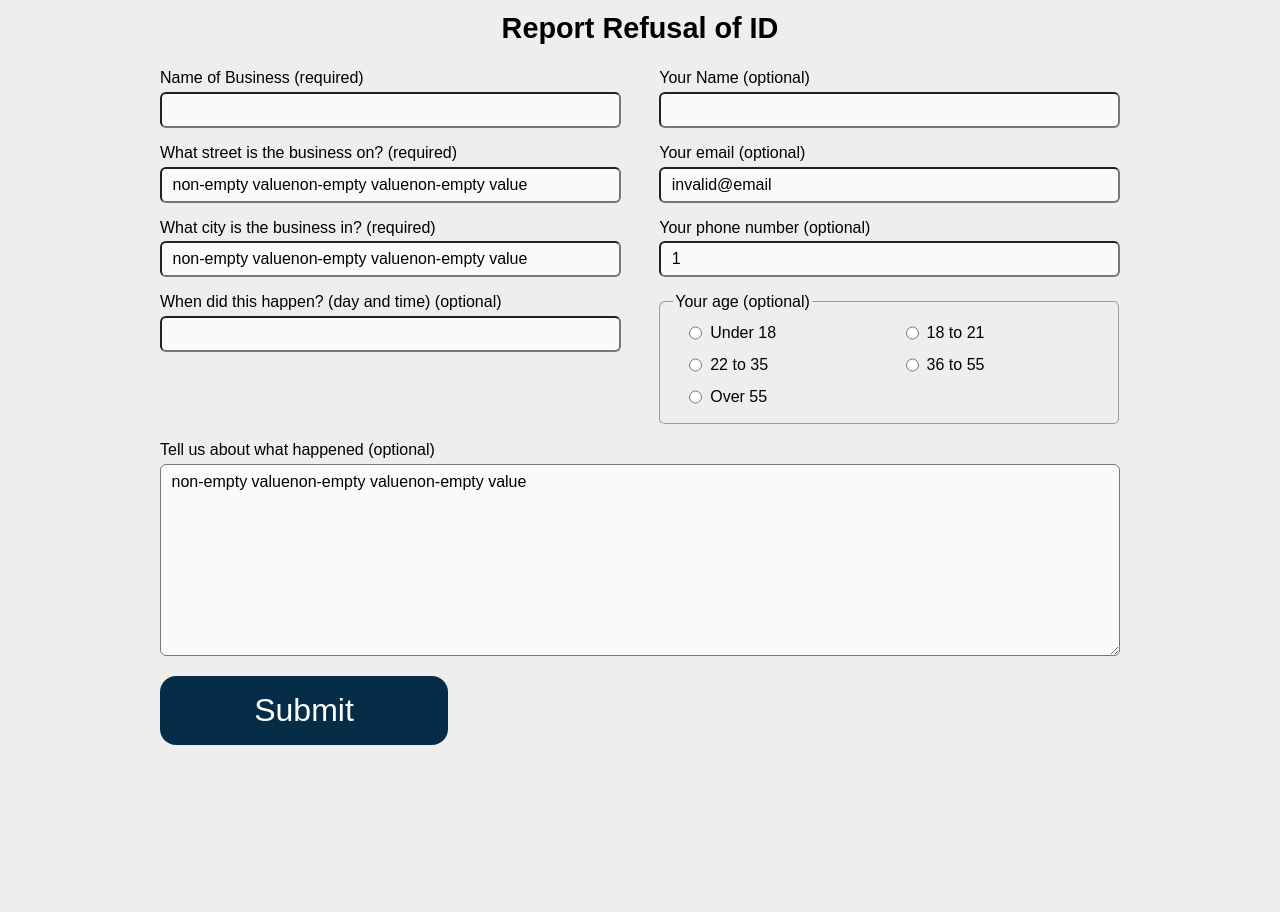
Test: when the form data is invalid › shows error message when missing required business city
This screenshot has width=1280, height=912.
Type "non-empty value" into the field labelled "Name of Business (required)".
click(390, 110); type("non-empty value")  # box [160, 92, 621, 128]
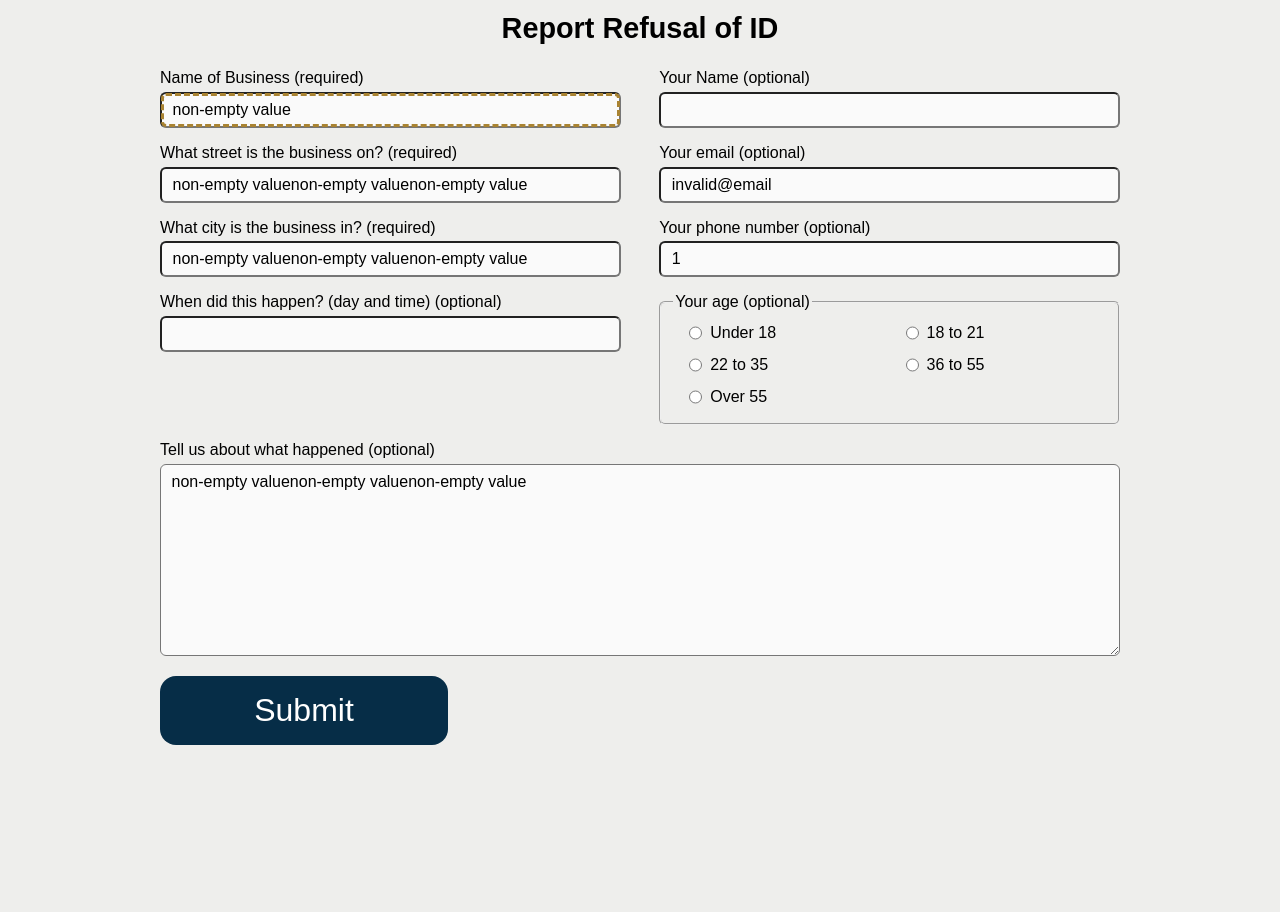
Type "non-empty value" into the field labelled "What street is the business on? (required)".
click(390, 185); type("non-empty value")  # box [160, 167, 621, 203]
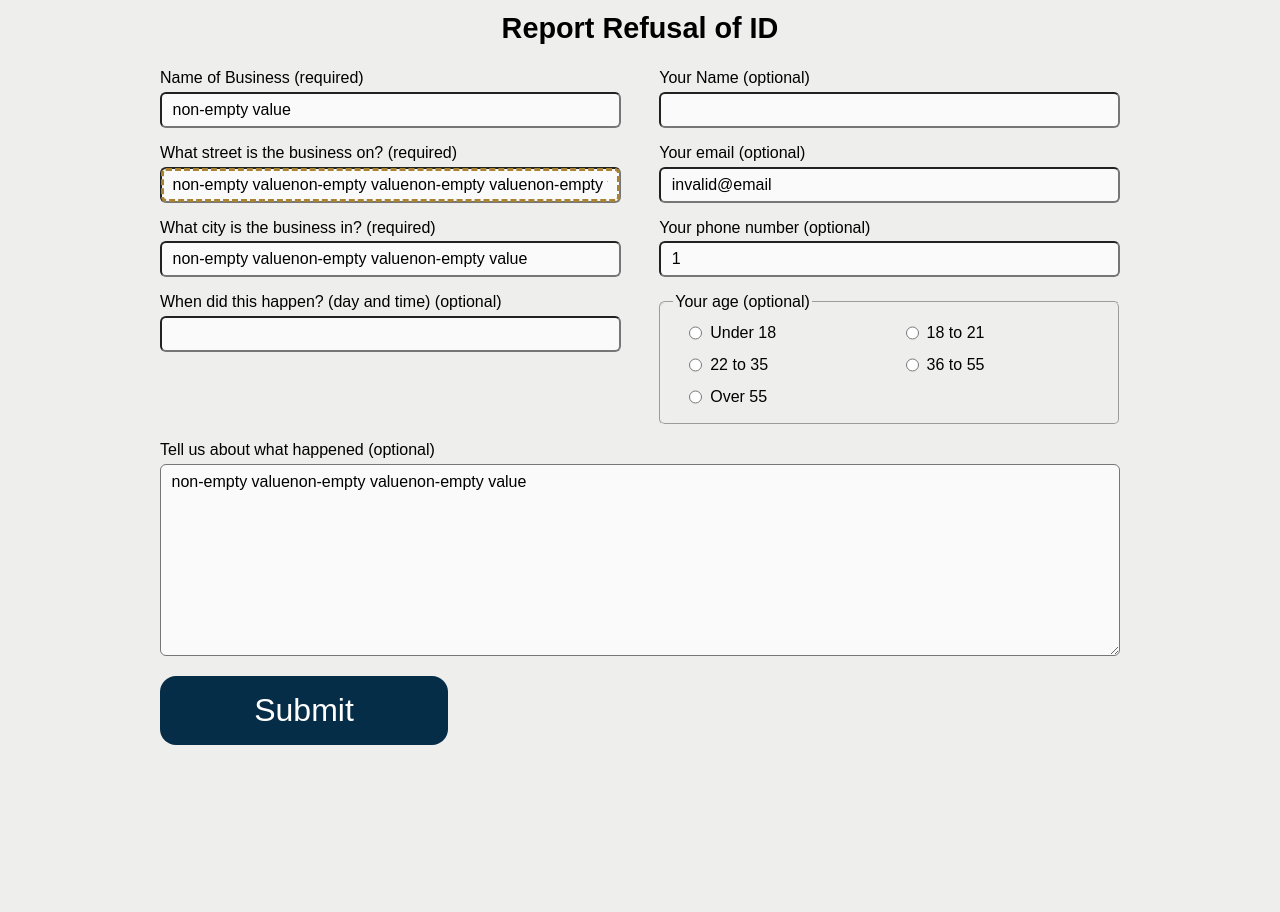
Type "non-empty value" into the field labelled "What city is the business in? (required)".
click(390, 259); type("non-empty value")  # box [160, 241, 621, 277]
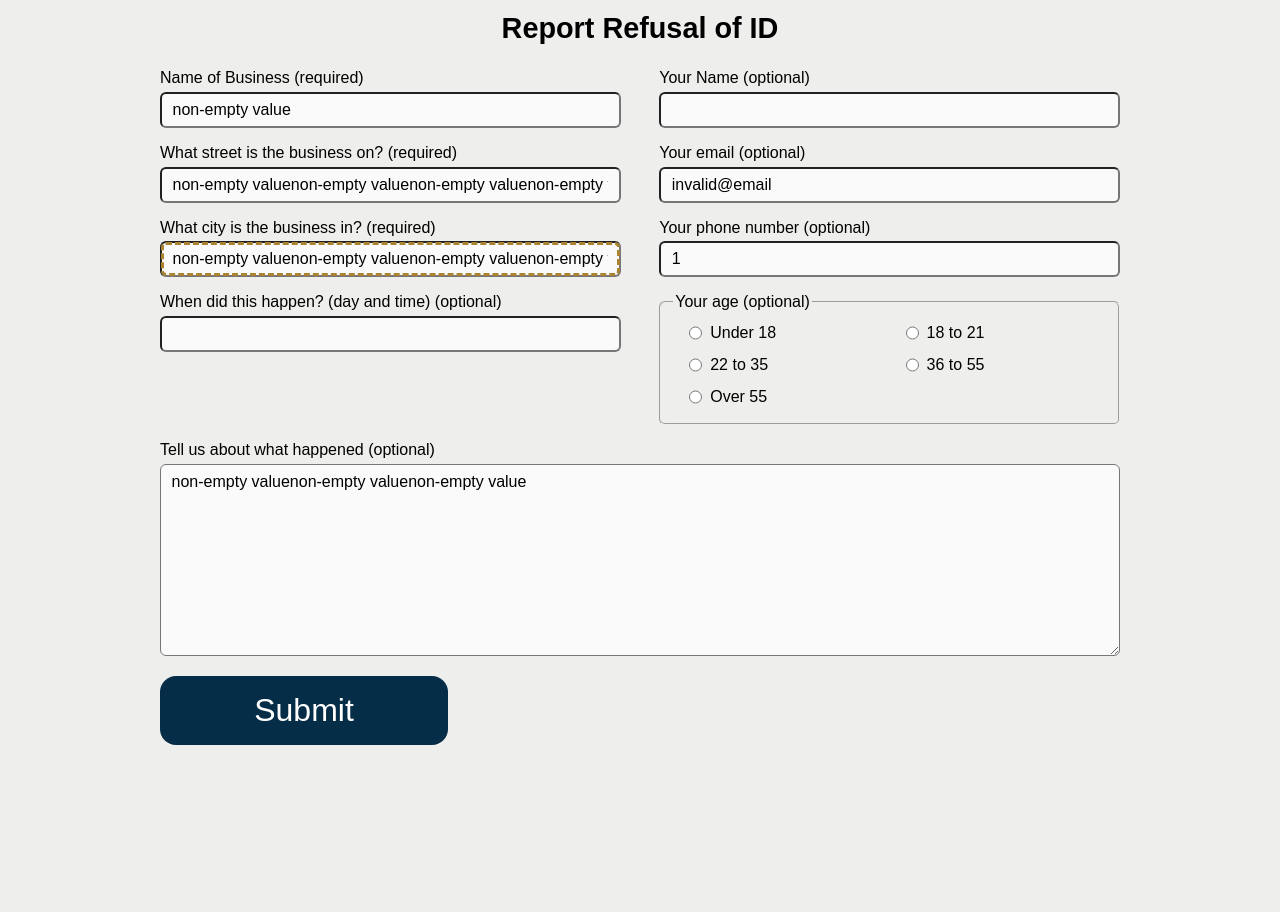
Type "non-empty value" into the text box labelled "Tell us about what happened (optional)".
click(640, 560); type("non-empty value")  # box [160, 464, 1120, 656]
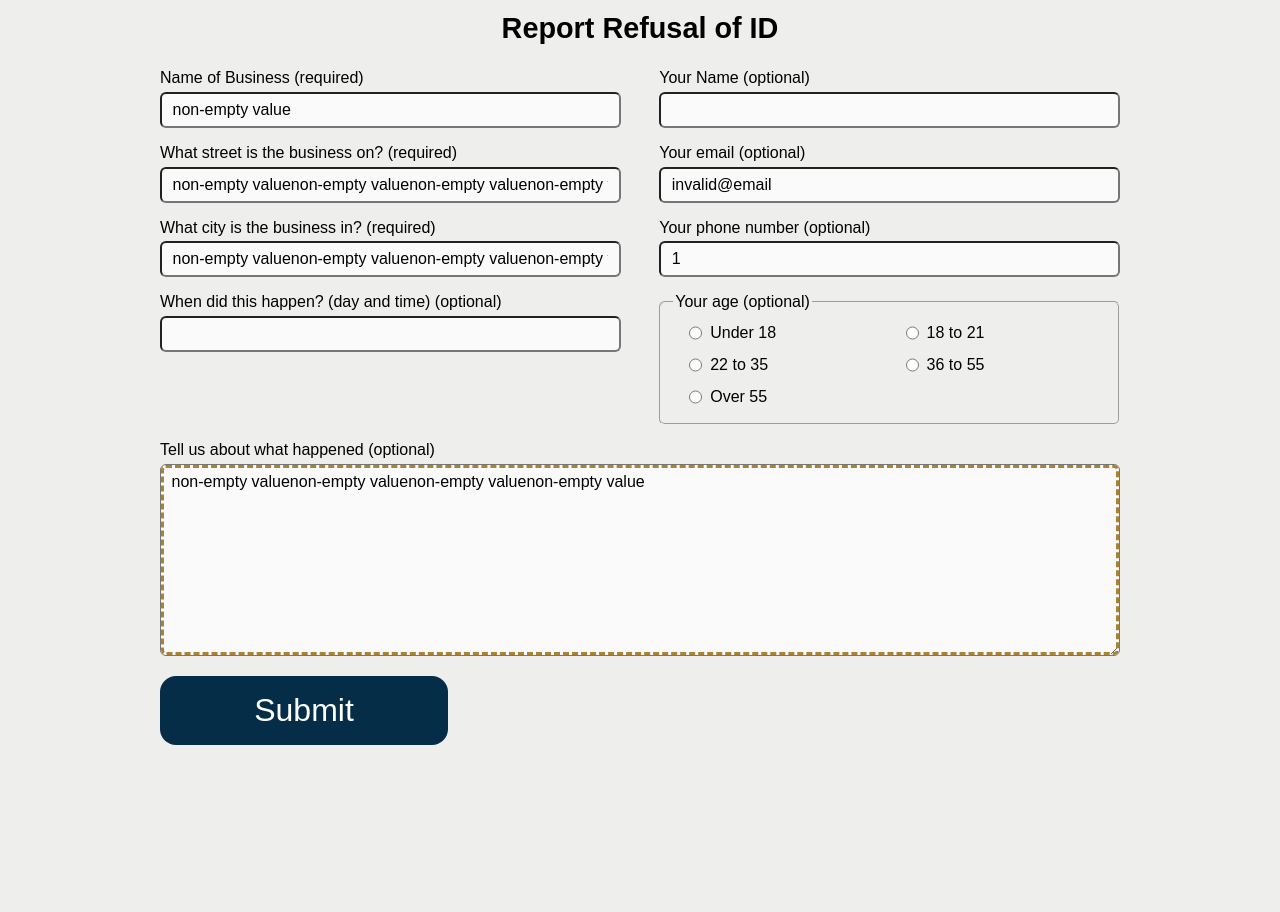
Clear the field labelled "What street is the business on? (required)" at (390, 185), box [160, 167, 621, 203]
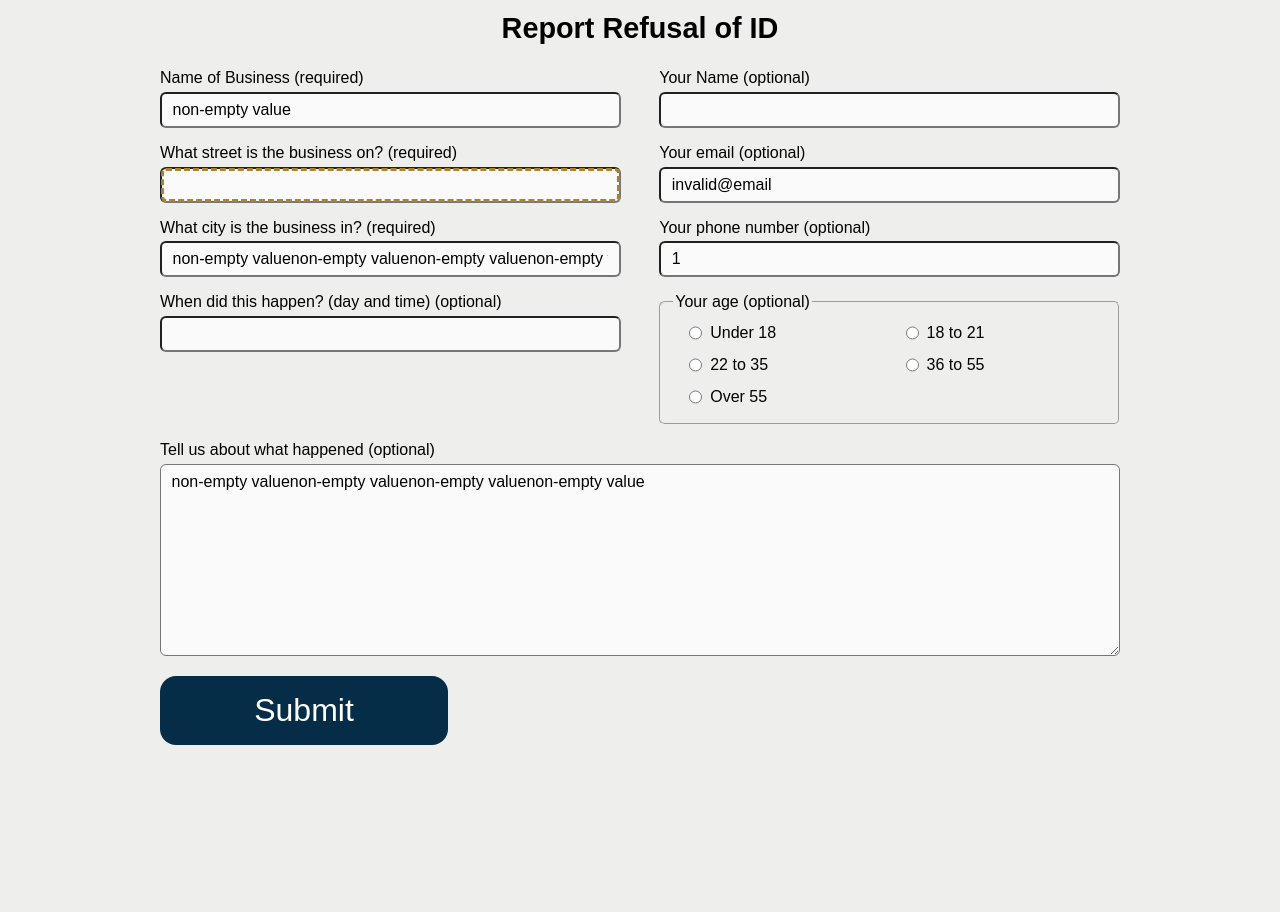
Click the button "Submit".
click(304, 710)  # box [160, 676, 448, 745]
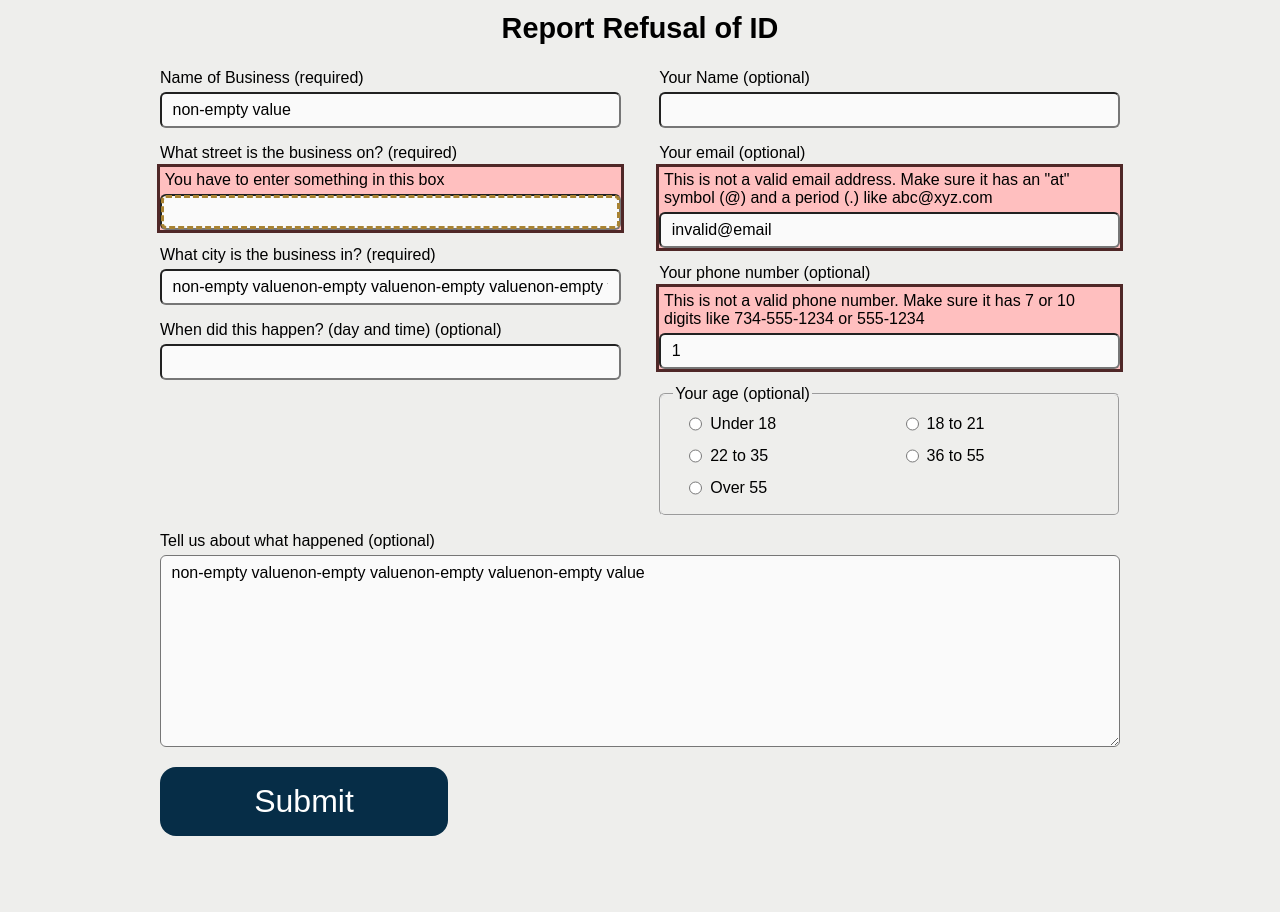
Expected: the text "You have to enter something in this box" is shown, [165, 171, 444, 188]
